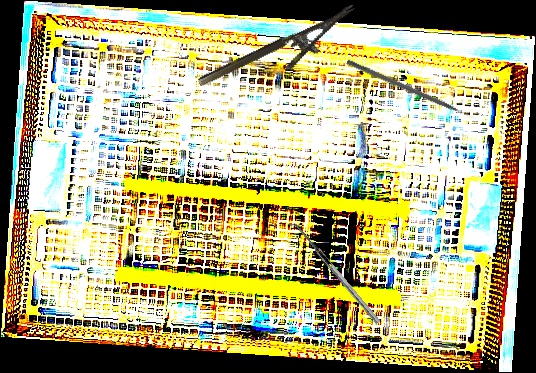Hook Surgical: (345, 58, 478, 123)
Needle Holder: (196, 3, 367, 108)
Spatula Surgical: (286, 219, 381, 328)
